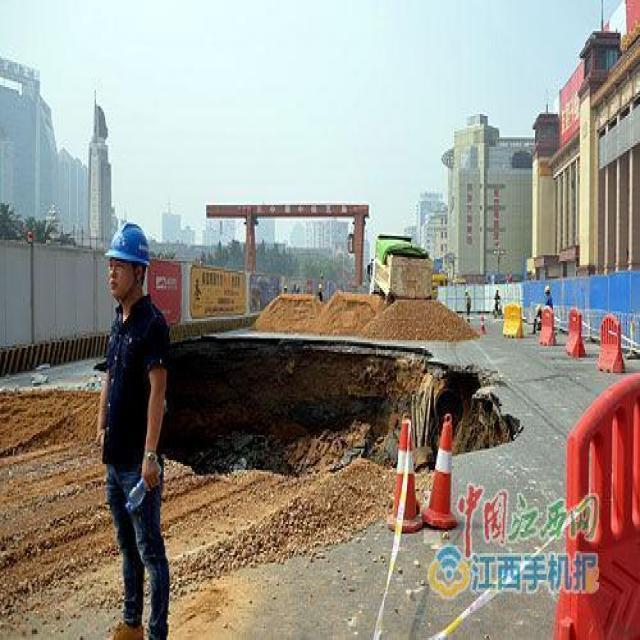boots: (106, 617, 145, 640), (137, 627, 166, 640)
hardhat: (105, 220, 154, 269)
no_gloves: (138, 454, 166, 491), (95, 422, 109, 462)
no_vest: (112, 303, 166, 448)
person: (100, 217, 175, 640)
